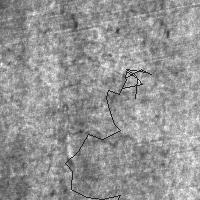crazing: (65, 69, 151, 200), (58, 12, 130, 149)
